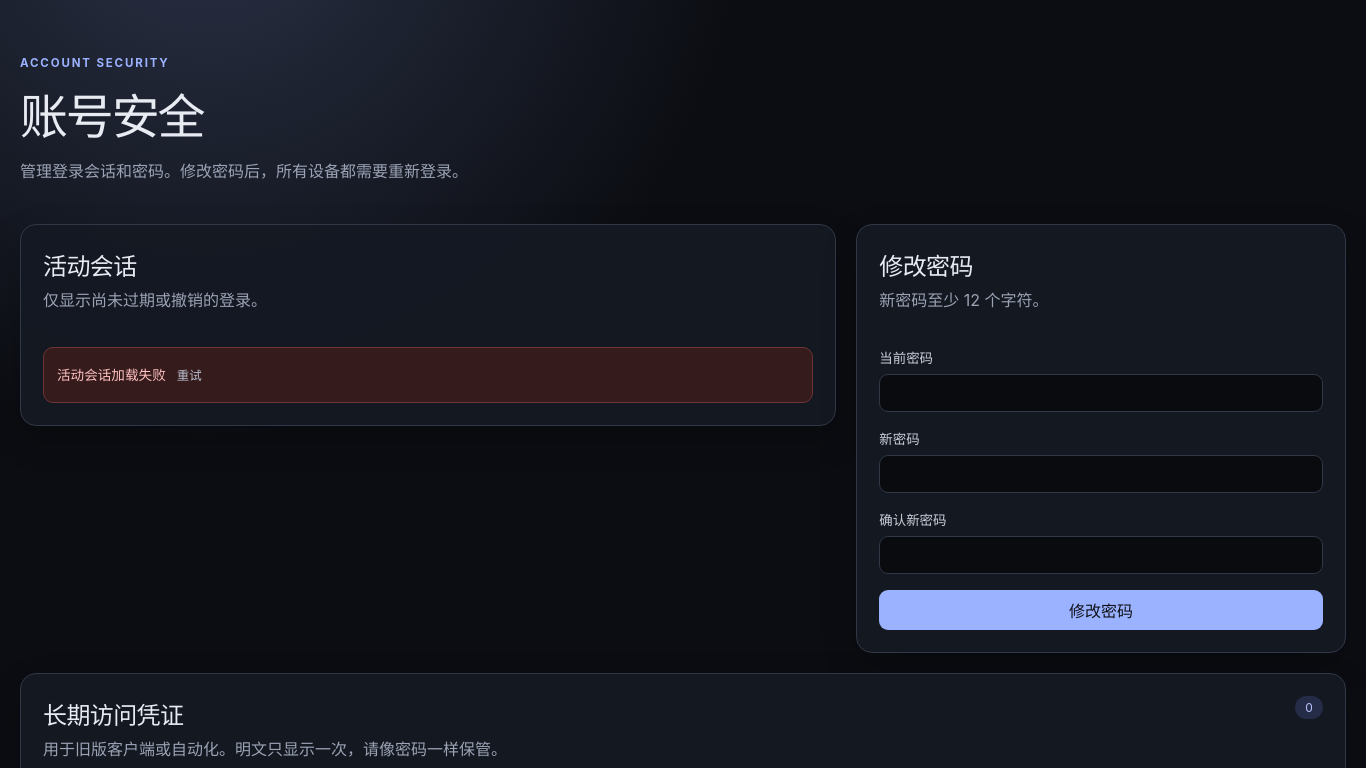
Scenario: AccountSecurityPage › shows a load failure and retries without a false empty state
Expected: the message shows "活动会话加载失败", [57,367,166,383]
Click the button "重试".
click(189, 375)  # box [166,359,213,391]
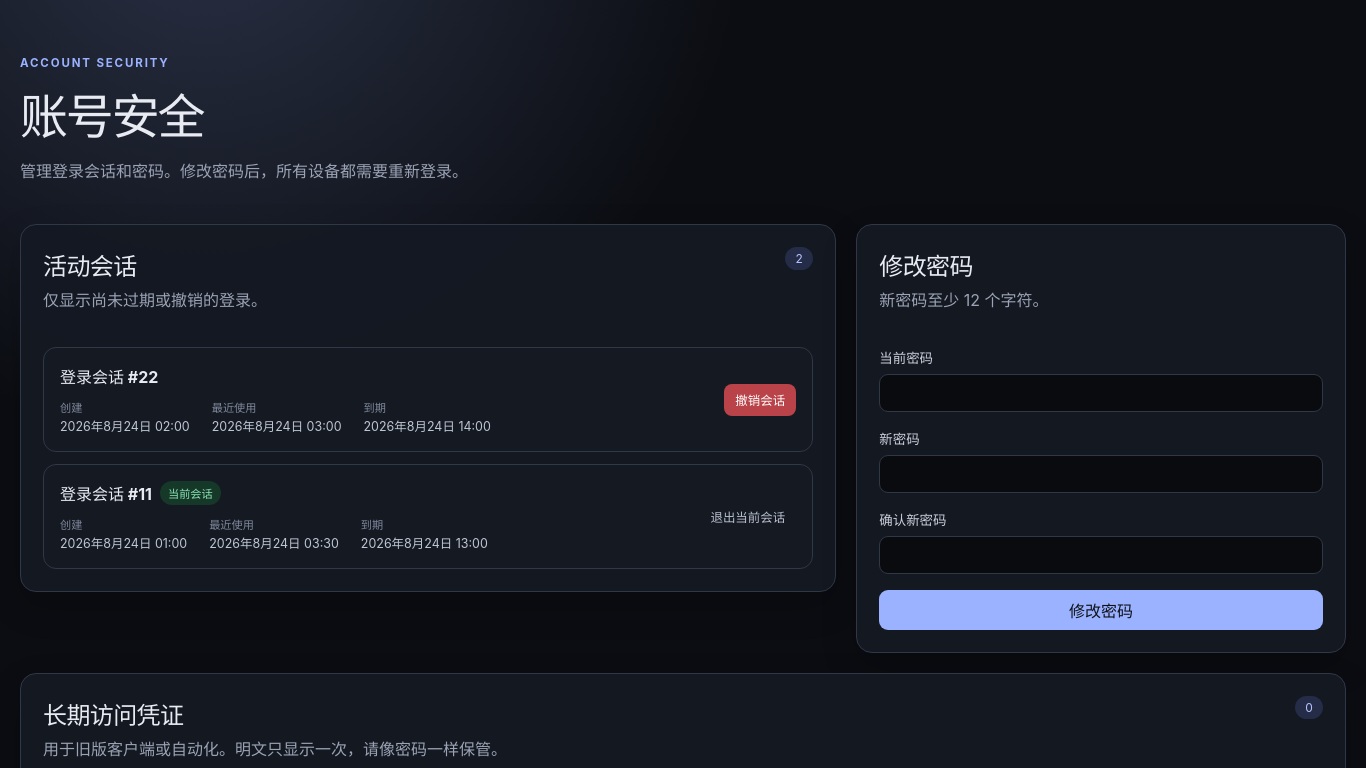
Now the text "当前会话" is shown, box [160,481,221,505]
